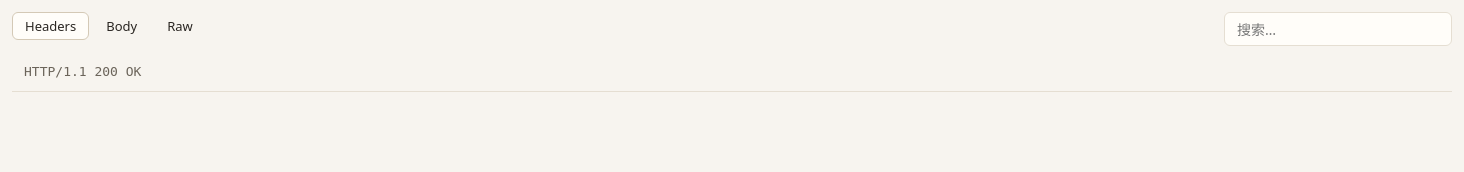
Test: HTTPViewer › Body tab 美化 JSON
This screenshot has width=1464, height=172.
Click the tab "Body". click: (122, 26)
box: [93, 12, 150, 40]
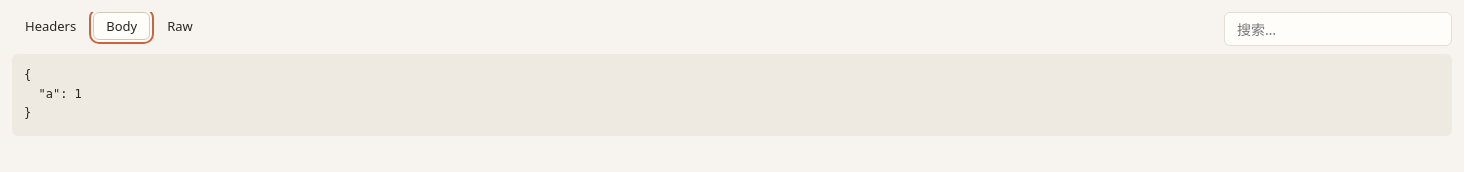
Expected: the text with test id "http-body" shows "\"a\": 1", [24, 68, 82, 120]
